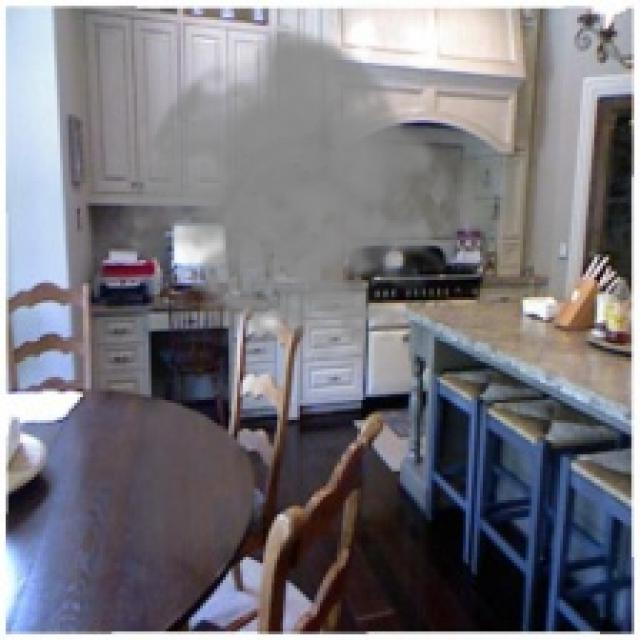smoke: (114, 23, 469, 366)
